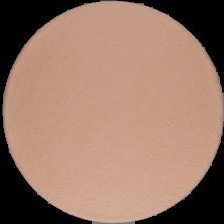63739-489: (0, 0, 224, 224)
